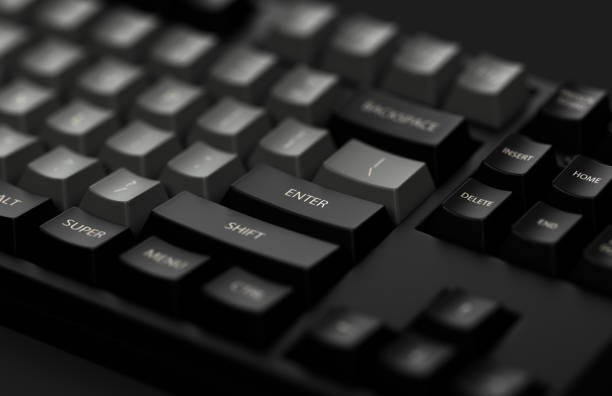keyboard: (4, 4, 611, 396)
